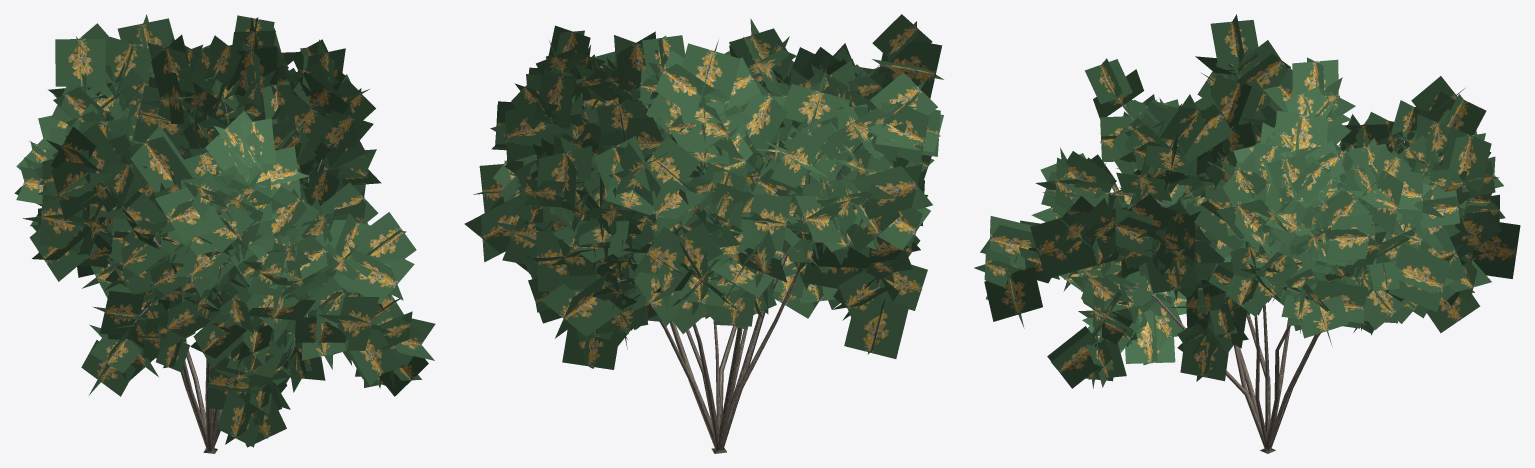
File: layered-shrub.gltf
3 renders of one model, left to right at view 1: azimuth 30°, elevation 25°; view 2: azimuth 150°, elevation 25°; view 3: azimuth 270°, elevation 25°, orthographic. The views are drawn at different scales.
Visible parts, largest first — view 1: layered-shrub; view 2: layered-shrub; view 3: layered-shrub.
Boxes of the visible parts, bbox=[...] form: layered-shrub: bbox=[14, 14, 435, 453]; layered-shrub: bbox=[464, 14, 943, 453]; layered-shrub: bbox=[974, 14, 1520, 453].
Bounding box in the file's own units: 1 × 1 × 1.29.
2 materials, 2 textured.
